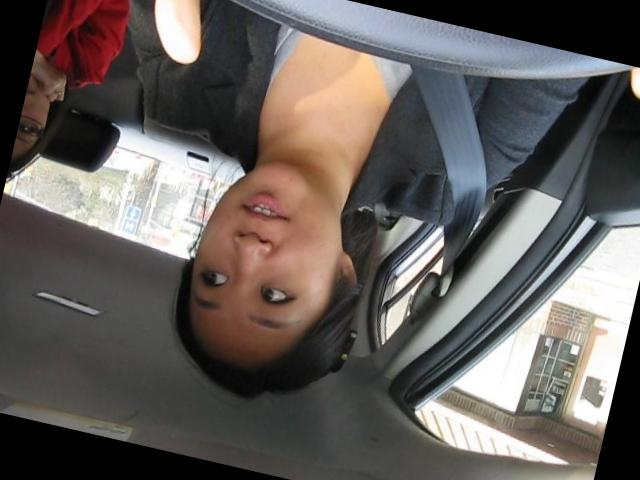eye_open: (247, 276, 301, 316), (193, 262, 235, 299)
face: (180, 146, 357, 349)
